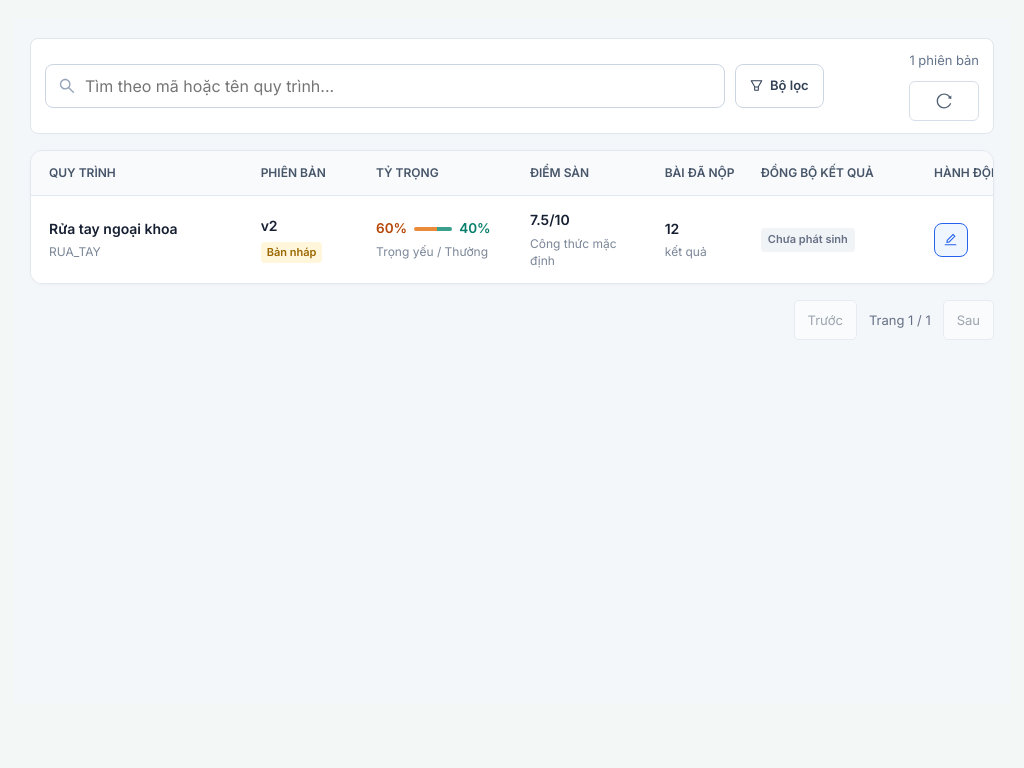
ScoringFormulaPage - chỉnh công thức › lưu ngay với bản nháp mà không hỏi xác nhận
Expected: the text "Rửa tay ngoại khoa" is shown, [49, 220, 178, 237]
Click the button named "Chỉnh công thức Rửa tay ngoại khoa phiên bản 2" at (951, 240), box [934, 223, 968, 257]
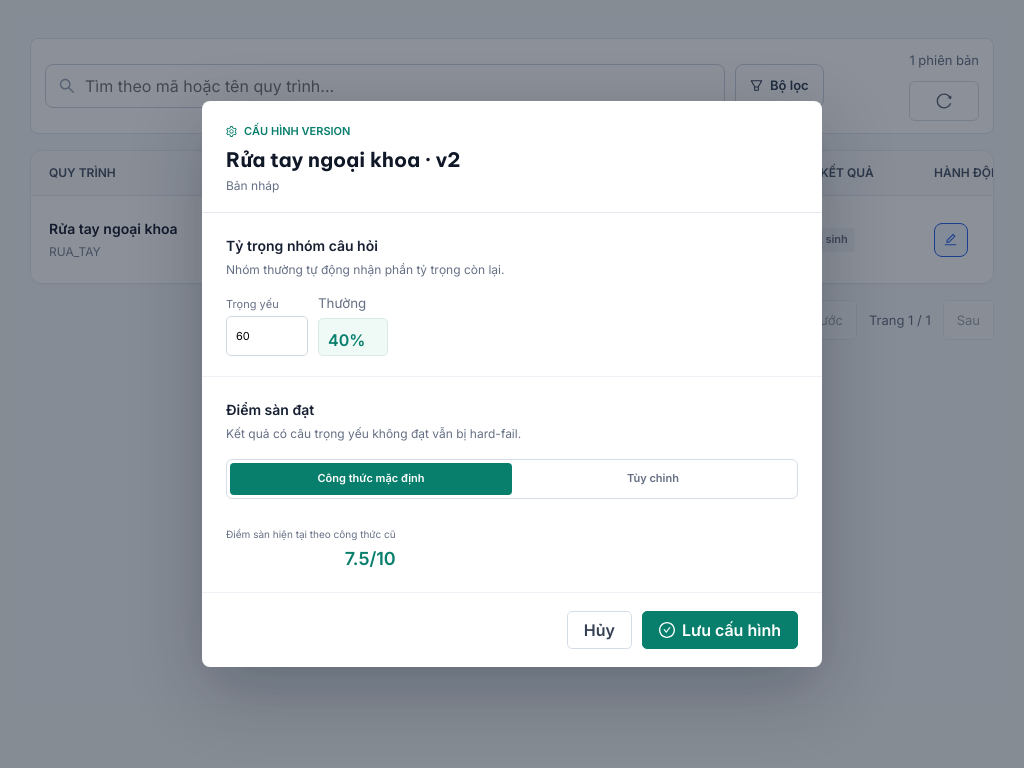
Replace the text in the number field with "70" at (267, 336), box [226, 316, 308, 356]
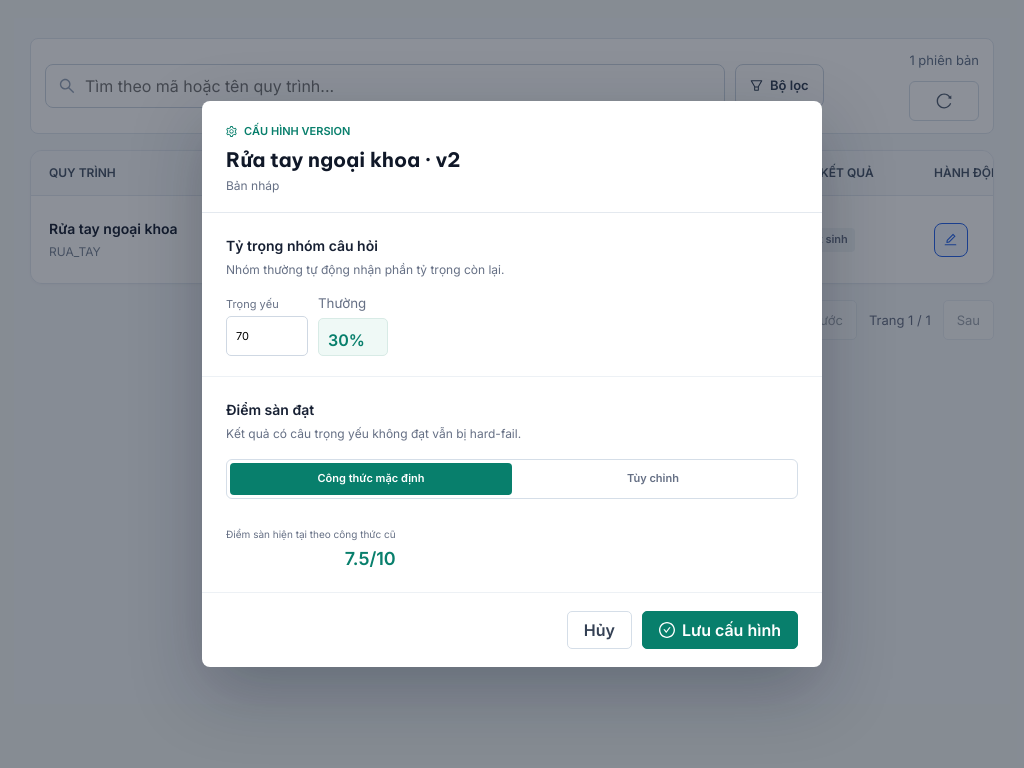
Click the button "Lưu cấu hình" at (720, 630), box [642, 611, 798, 649]
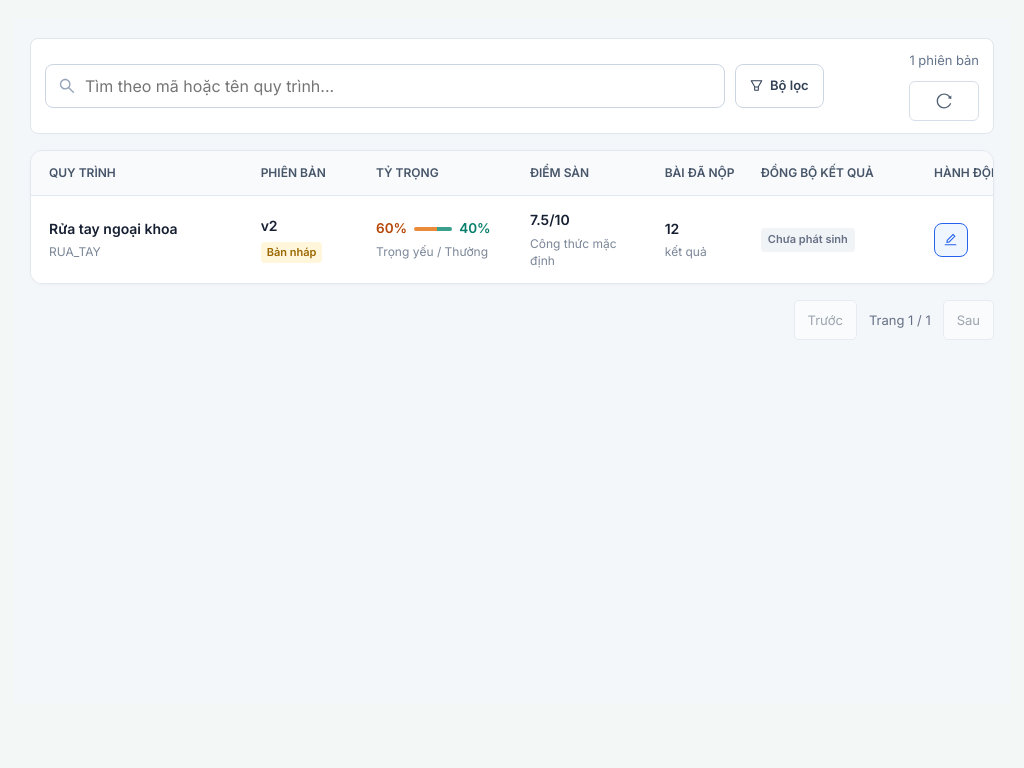
Expected: the dialog is gone
